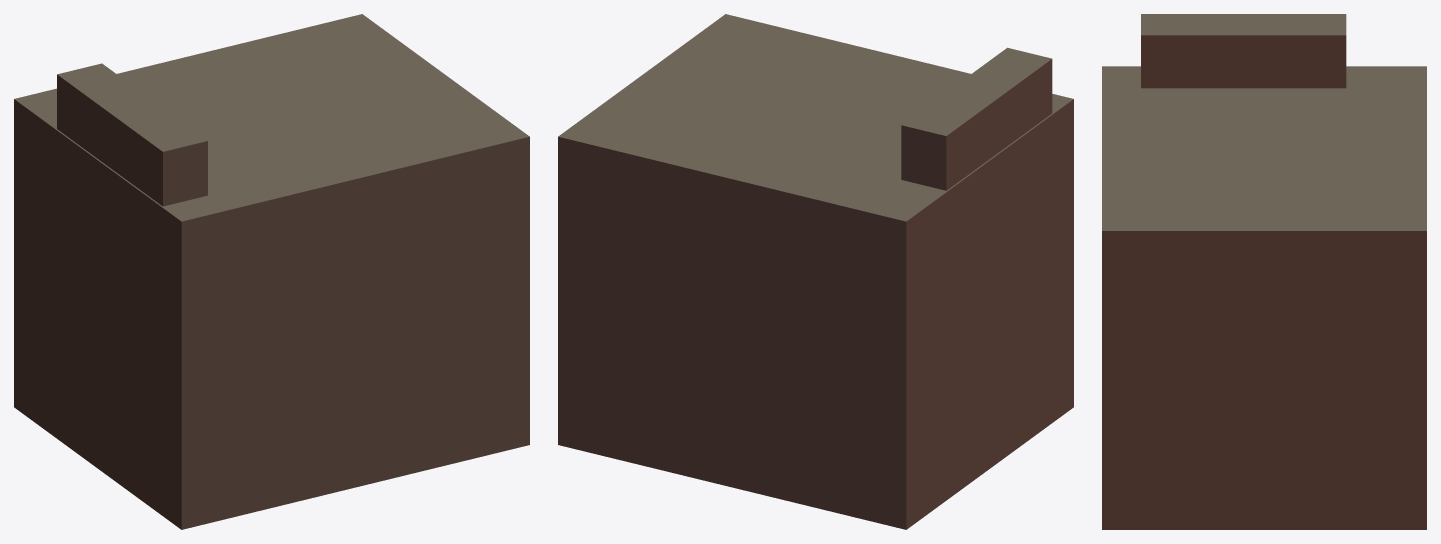
The model's file is mh-garage-flats.far-facades-v3.lod2.glb.
The picture shows the model from 3 angles, left to right: view 1: azimuth 30°, elevation 25°; view 2: azimuth 150°, elevation 25°; view 3: azimuth 270°, elevation 25°; orthographic projection. The views are drawn at different scales.
Visible parts, largest first — view 1: mh-garage-flats; view 2: mh-garage-flats; view 3: mh-garage-flats.
Part boxes in pixels (left/top/right/bottom): mh-garage-flats: left=14, top=14, right=529, bottom=529; mh-garage-flats: left=558, top=14, right=1073, bottom=529; mh-garage-flats: left=1102, top=14, right=1426, bottom=529.
Size of the model in its own units: 12 by 11.95 by 10.
